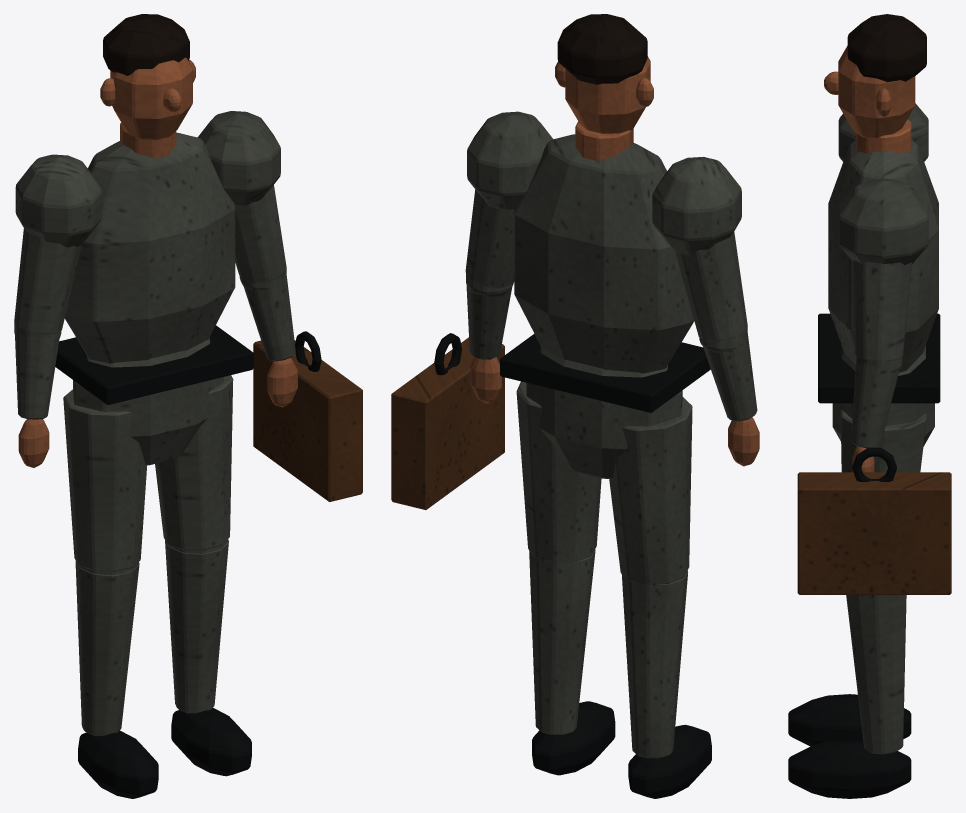
File: PROP-44C55BAB860E_lod1.glb
3 renders of one model, left to right at view 1: azimuth 30°, elevation 25°; view 2: azimuth 150°, elevation 25°; view 3: azimuth 270°, elevation 25°, orthographic. The views are drawn at different scales.
Parts seen in each view (by area): view 1: torso.036, thigh.035, calf.035, shoulder.036, briefcase.005, upper_arm.036, shoe.035, belt.035, pelvis.035, forearm.036, head.035, hair_cap.035 (+4 smaller); view 2: torso.036, thigh.035, calf.035, briefcase.005, shoulder.036, upper_arm.036, pelvis.035, shoe.035, belt.035, forearm.036, hair_cap.035, head.035 (+5 smaller); view 3: briefcase.005, torso.036, shoe.035, shoulder.036, calf.035, upper_arm.036, belt.035, hair_cap.035, head.035, forearm.036, thigh.035, pelvis.035 (+4 smaller).
Part boxes in pixels (left/top/right/bottom): torso.036: left=64, top=132, right=235, bottom=363; thigh.035: left=63, top=375, right=233, bottom=571; calf.035: left=75, top=540, right=228, bottom=735; shoulder.036: left=15, top=111, right=280, bottom=247; briefcase.005: left=253, top=340, right=362, bottom=501; upper_arm.036: left=14, top=185, right=286, bottom=334; shoe.035: left=78, top=708, right=251, bottom=798; belt.035: left=55, top=325, right=253, bottom=404; pelvis.035: left=73, top=338, right=223, bottom=465; forearm.036: left=15, top=273, right=295, bottom=419; head.035: left=110, top=57, right=192, bottom=139; hair_cap.035: left=103, top=14, right=189, bottom=75; torso.036: left=514, top=134, right=694, bottom=373; thigh.035: left=516, top=381, right=692, bottom=585; calf.035: left=529, top=550, right=687, bottom=758; briefcase.005: left=391, top=337, right=504, bottom=509; shoulder.036: left=467, top=111, right=741, bottom=254; upper_arm.036: left=465, top=189, right=747, bottom=341; pelvis.035: left=526, top=346, right=682, bottom=478; shoe.035: left=532, top=701, right=711, bottom=798; belt.035: left=500, top=333, right=710, bottom=412; forearm.036: left=466, top=285, right=757, bottom=421; hair_cap.035: left=557, top=14, right=647, bottom=84; head.035: left=565, top=56, right=650, bottom=133; briefcase.005: left=797, top=472, right=951, bottom=594; torso.036: left=828, top=139, right=938, bottom=372; shoe.035: left=788, top=694, right=911, bottom=798; shoulder.036: left=838, top=103, right=928, bottom=265; calf.035: left=846, top=595, right=906, bottom=754; upper_arm.036: left=853, top=260, right=911, bottom=360; belt.035: left=818, top=313, right=940, bottom=403; hair_cap.035: left=847, top=14, right=926, bottom=82; head.035: left=838, top=46, right=915, bottom=138; forearm.036: left=851, top=359, right=899, bottom=448; thigh.035: left=840, top=410, right=926, bottom=472; pelvis.035: left=832, top=345, right=934, bottom=446.
Bounding box in the file's own units: 0.8013 × 1.84 × 0.3607.
5 materials, 5 textured.
